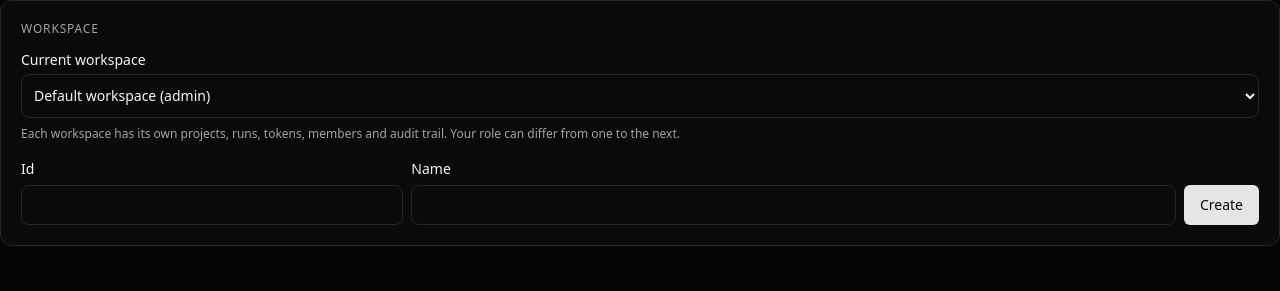
Test: the workspace panel › shows the server’s sentence when creating is refused
The image size is (1280, 291).
Type "x" into the field labelled "Id". click: (212, 205)
box: [21,185,403,225]
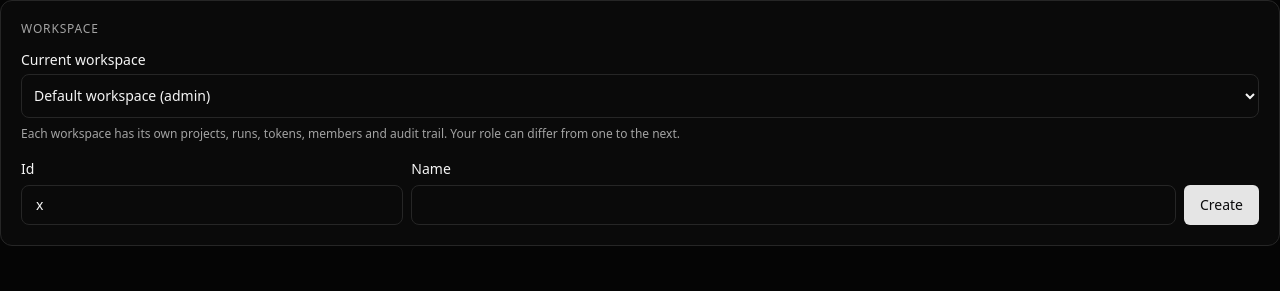
Type "X" into the field labelled "Name". click: (794, 205)
box: [411,185,1176,225]
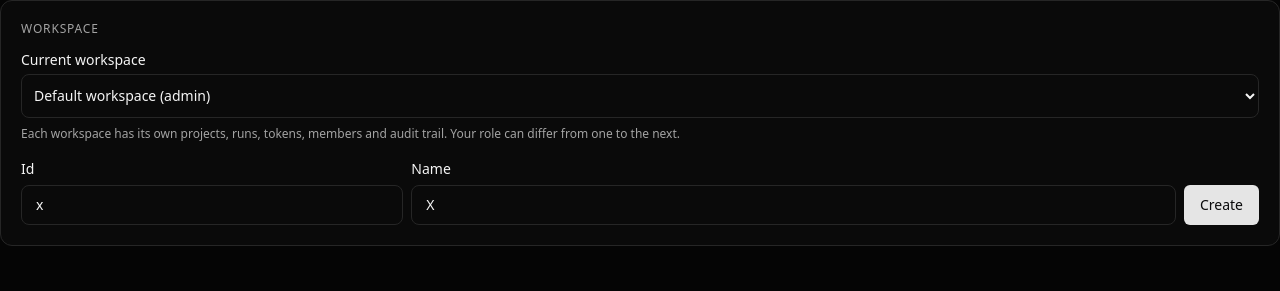
Submit the form named "New workspace", box [21,159,1259,225]
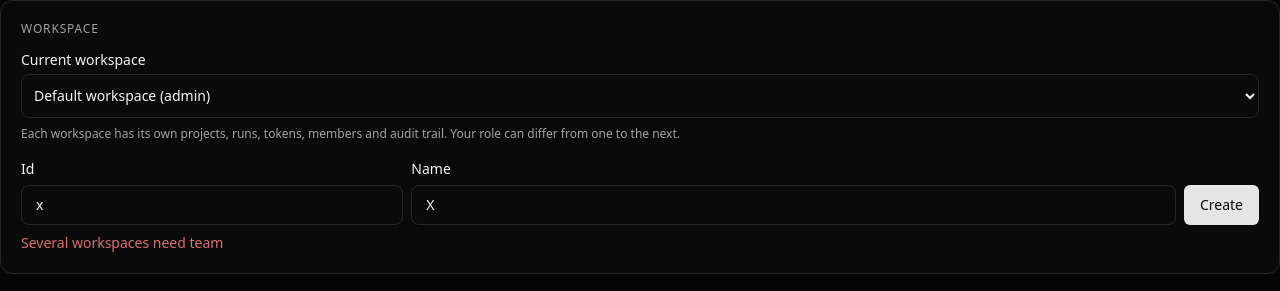
Expected: the message reads "Several workspaces need team", [21,233,223,252]
